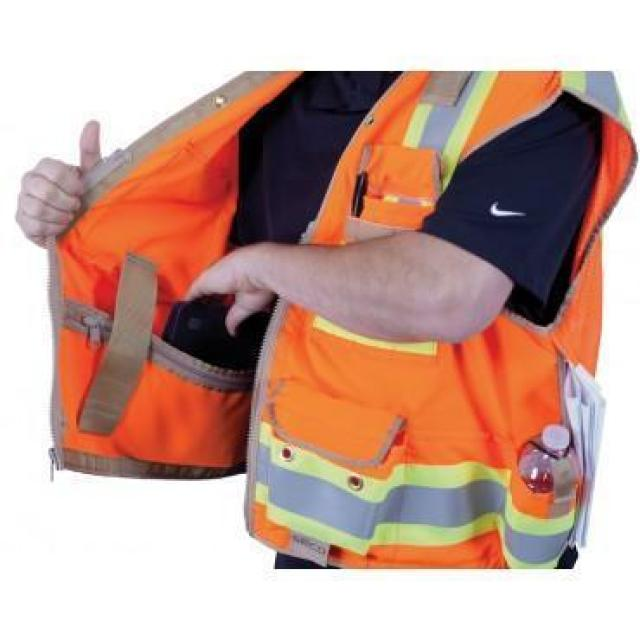Vest: (38, 69, 638, 569)
